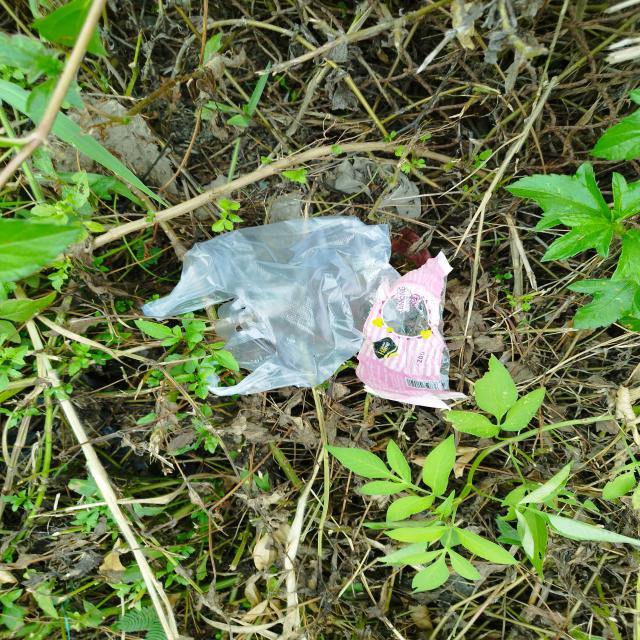bag: (142, 217, 400, 396)
packet: (357, 250, 461, 410)
